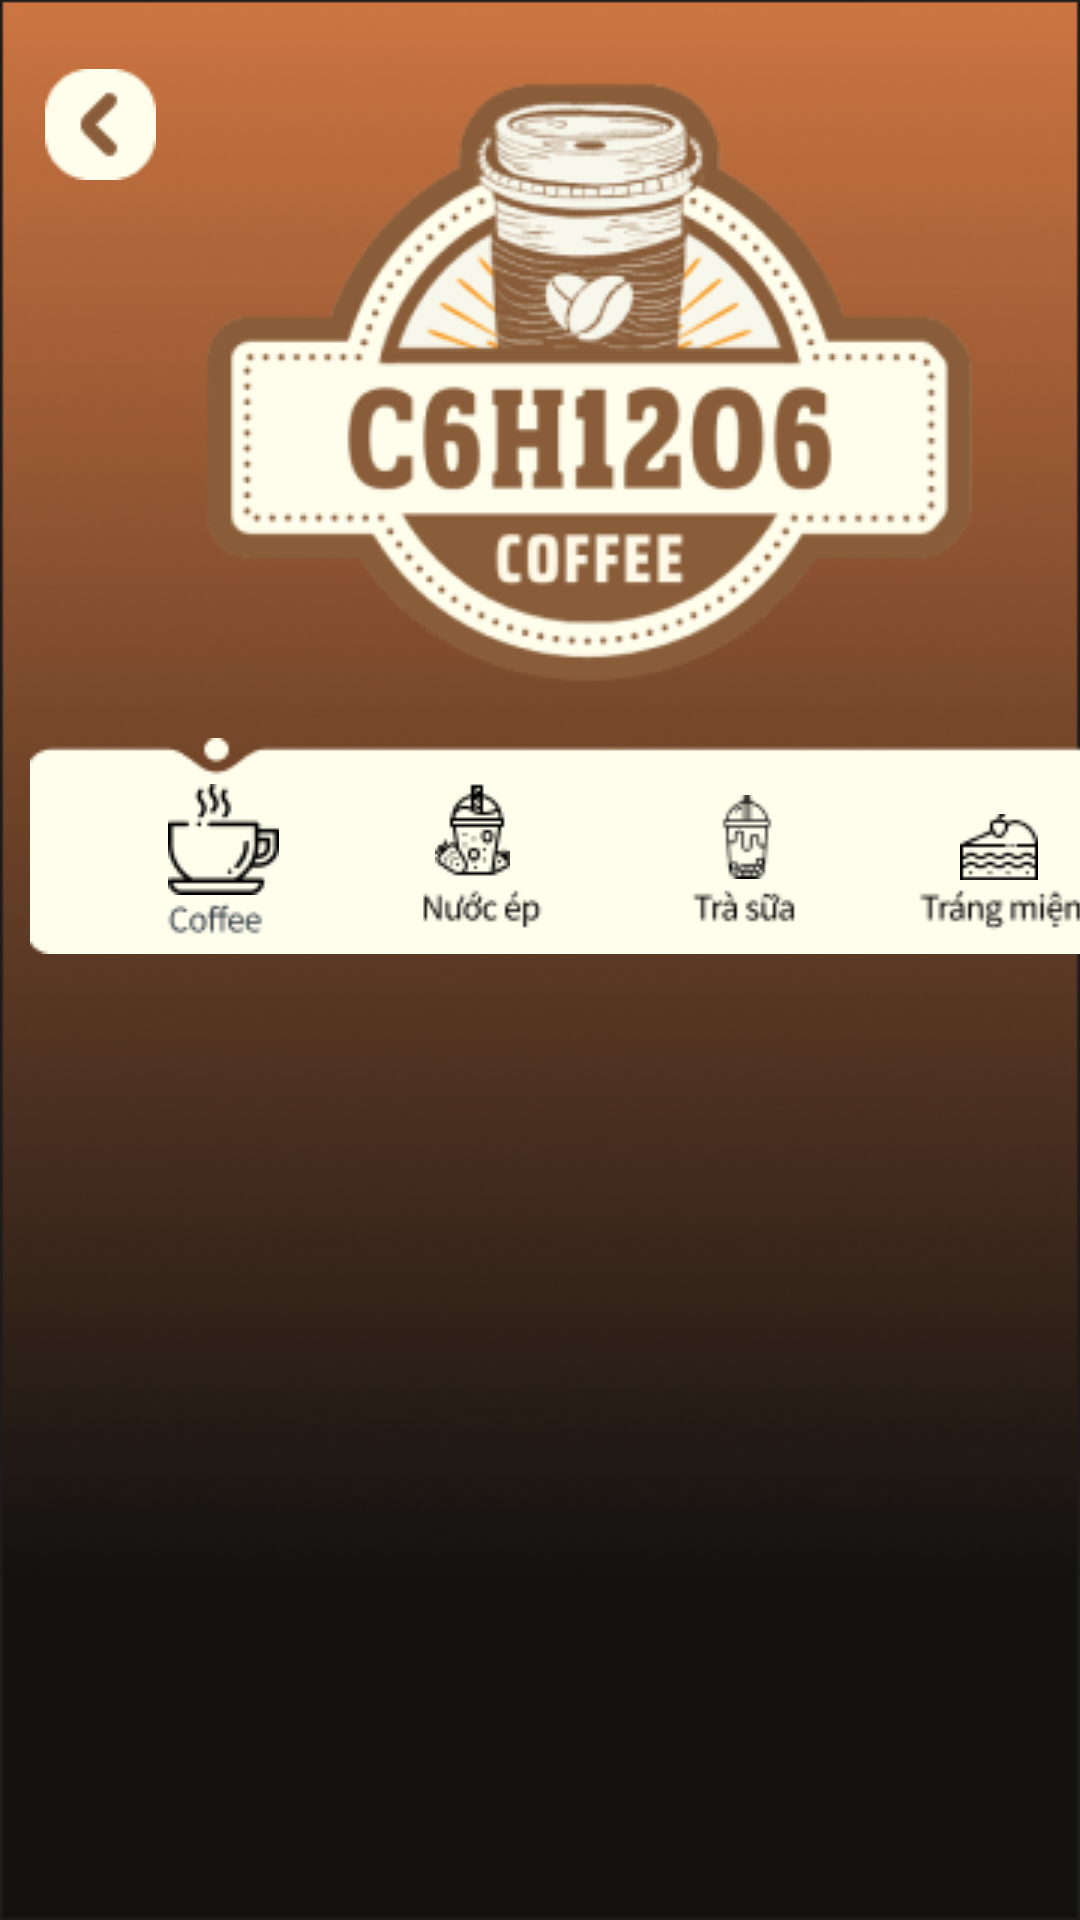

Named icons in this screenshot (1080*1920) and their centers, point (x, y):
smoothie: point (472, 830)
